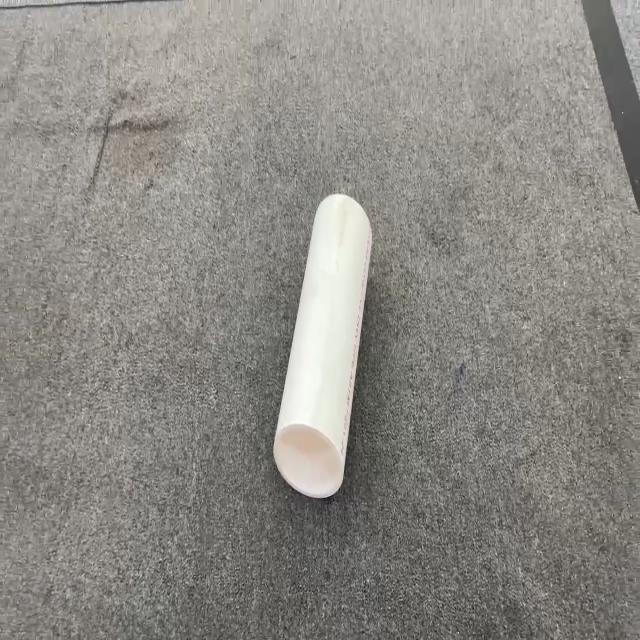coral: (272, 191, 372, 499)
